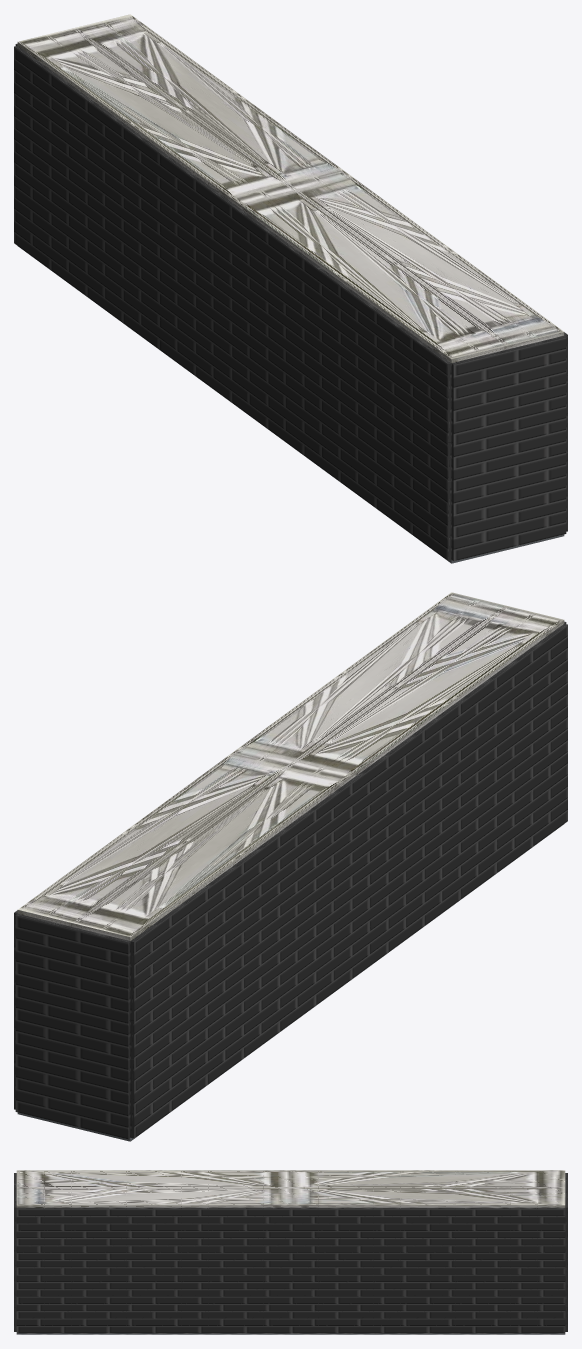
Rendered from ShootingRange.FBX.
3 renders of one model, top to bottom at view 1: azimuth 30°, elevation 25°; view 2: azimuth 150°, elevation 25°; view 3: azimuth 270°, elevation 25°, orthographic. The views are drawn at different scales.
Visible parts, largest first — view 1: BackWall; view 2: BackWall; view 3: BackWall.
Boxes of the visible parts, x1,y1,x2,y2 form: BackWall: (14,14,567,563); BackWall: (14,592,567,1141); BackWall: (14,1170,567,1334).
Bounding box in the file's own units: 126 × 205 × 795.
3 materials, 3 textured.
